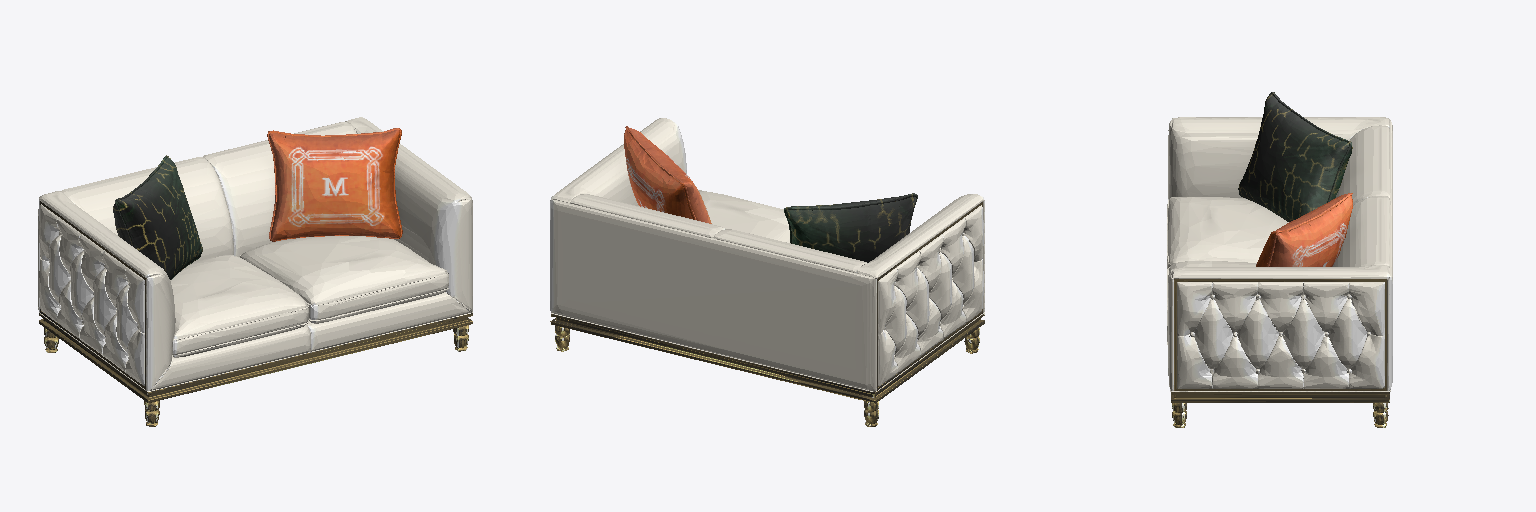
3 renders of one model, left to right at view 1: azimuth 30°, elevation 25°; view 2: azimuth 150°, elevation 25°; view 3: azimuth 270°, elevation 25°, orthographic.
Parts seen in each view (by area): view 1: solid_002, solid_004, solid_003, solid_001; view 2: solid_002, solid_001, solid_003, solid_004; view 3: solid_002, solid_003, solid_001, solid_004.
Part boxes in pixels (x1,y1,x2,y2): solid_002: (38,117,472,391); solid_004: (267,128,402,241); solid_003: (113,155,202,279); solid_001: (39,201,472,426); solid_002: (550,118,984,391); solid_001: (550,202,984,426); solid_003: (784,193,917,262); solid_004: (624,126,711,223); solid_002: (1167,117,1392,391); solid_003: (1238,92,1352,221); solid_001: (1171,279,1389,427); solid_004: (1256,193,1352,266).
Size of the model in its own units: 1.94 by 1.03 by 1.12.
Materials: 1 (1 with a texture image).